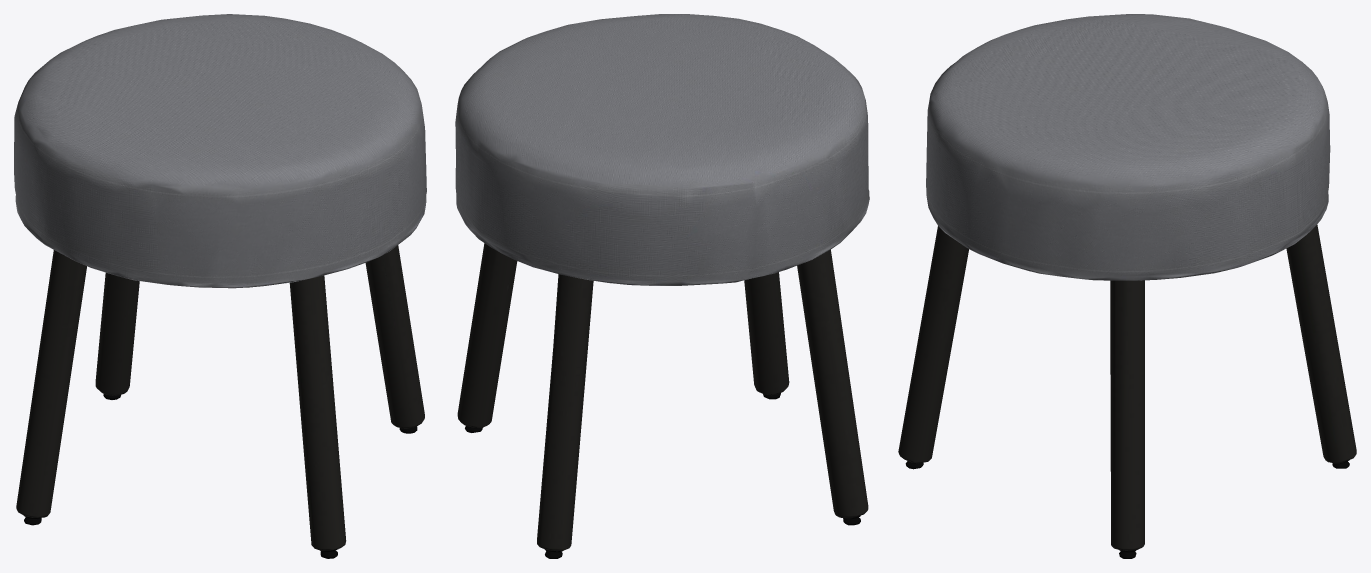
The model's file is mortfors_puf_90533466.glb.
The picture shows the model from 3 angles, left to right: view 1: azimuth 30°, elevation 25°; view 2: azimuth 150°, elevation 25°; view 3: azimuth 270°, elevation 25°; orthographic projection. The views are drawn at different scales.
Visible parts, largest first — view 1: mortfors_puf_90533466; view 2: mortfors_puf_90533466; view 3: mortfors_puf_90533466.
Boxes of the visible parts, <box> form: mortfors_puf_90533466: <box>14,14,426,558</box>; mortfors_puf_90533466: <box>455,14,869,558</box>; mortfors_puf_90533466: <box>898,14,1356,558</box>.
Size of the model in its own units: 0.4663 by 0.431 by 0.4664.
1 material, 1 textured.
